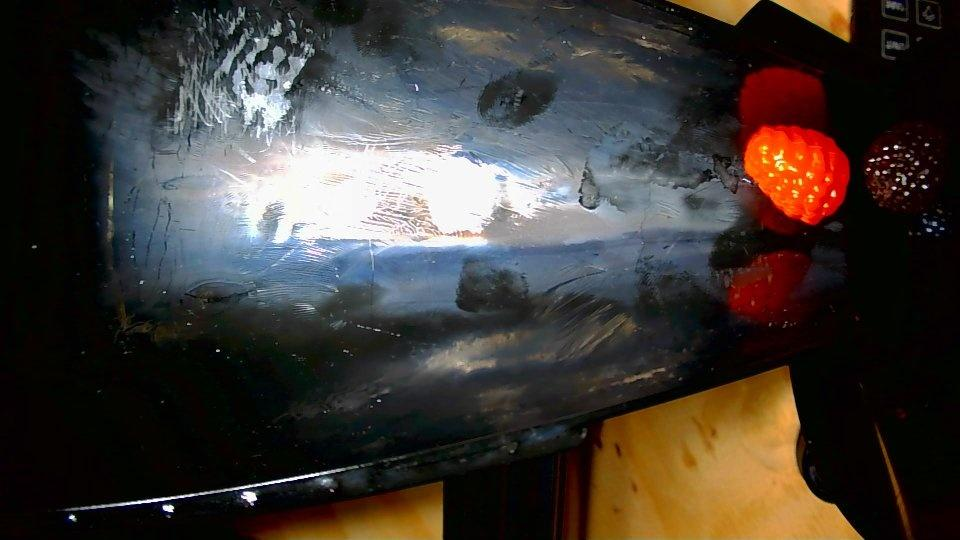berry: (744, 126, 849, 224), (863, 124, 946, 213)
